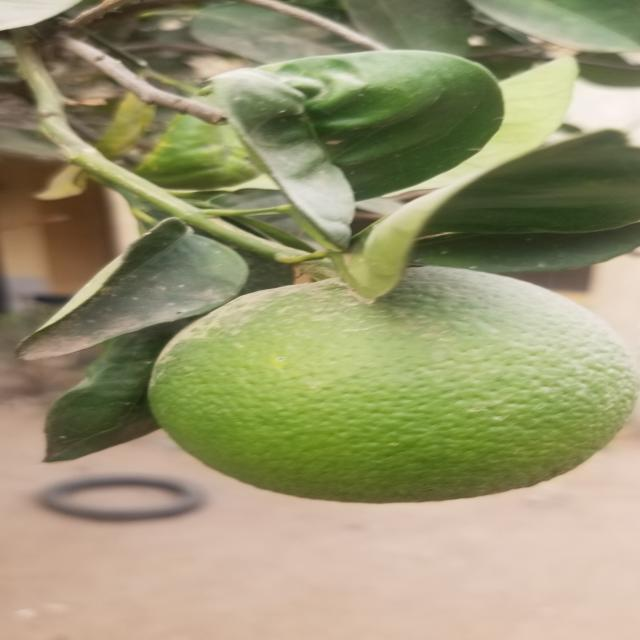Unripe: (154, 273, 634, 505)
